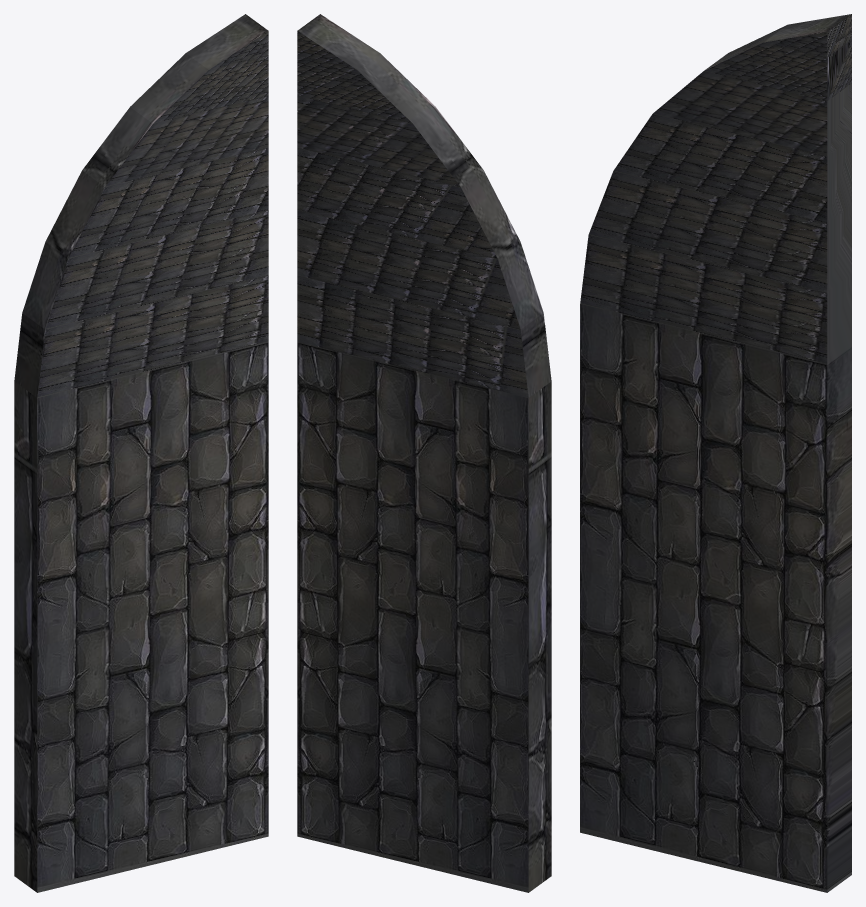
The model's file is Door.fbx.
3 views of the same model, side by side, from view 1: azimuth 30°, elevation 25°; view 2: azimuth 150°, elevation 25°; view 3: azimuth 330°, elevation 25° (orthographic). The views are drawn at different scales.
Visible parts, largest first — view 1: Door; view 2: Door; view 3: Door.
Part boxes in pixels (x1,y1,x2,y2): Door: (14,14,268,892); Door: (297,14,551,892); Door: (580,14,851,892).
Size of the model in its own units: 8.04 by 26.77 by 1.38.
